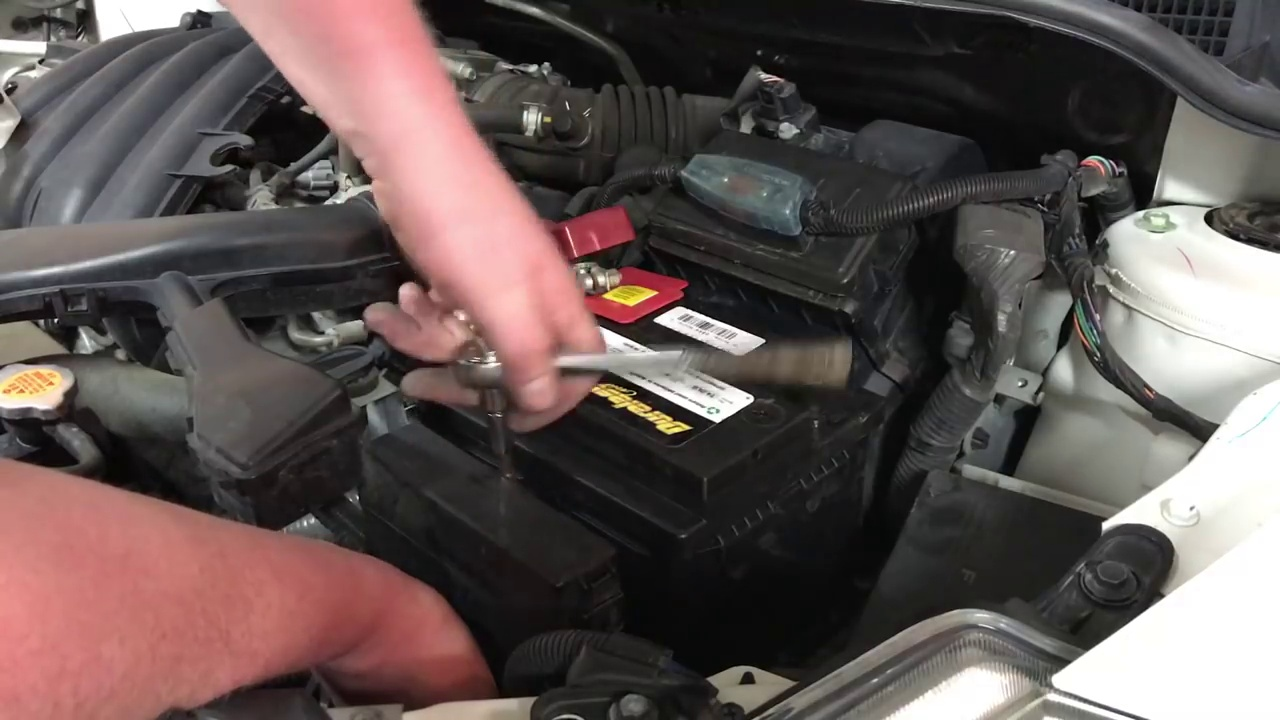battery: (444, 272, 857, 481)
pos_touched: (513, 205, 677, 347)
